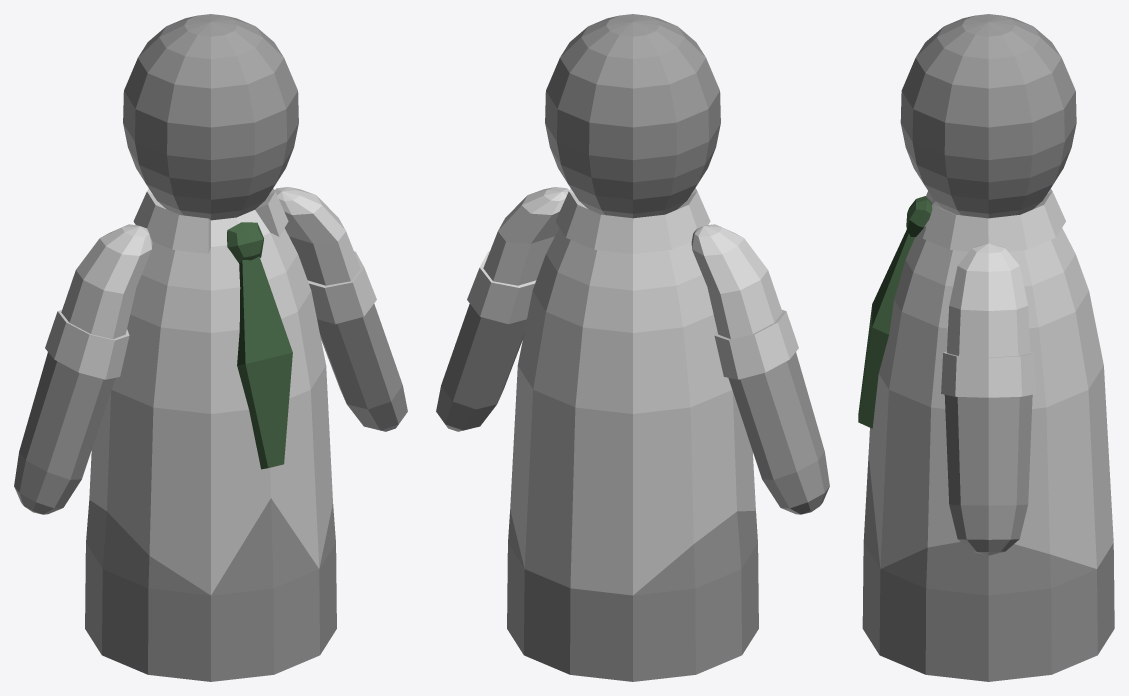
The model's file is y2kGuy.fbx.
The picture shows the model from 3 angles, left to right: view 1: azimuth 30°, elevation 25°; view 2: azimuth 150°, elevation 25°; view 3: azimuth 270°, elevation 25°; orthographic projection.
Parts seen in each view (by area): view 1: polySurface14; view 2: polySurface14; view 3: polySurface14.
Part boxes in pixels (x1,y1,x2,y2): polySurface14: (14,14,407,681); polySurface14: (436,14,829,681); polySurface14: (858,14,1114,681).
Size of the model in its own units: 334 by 504 by 193.
